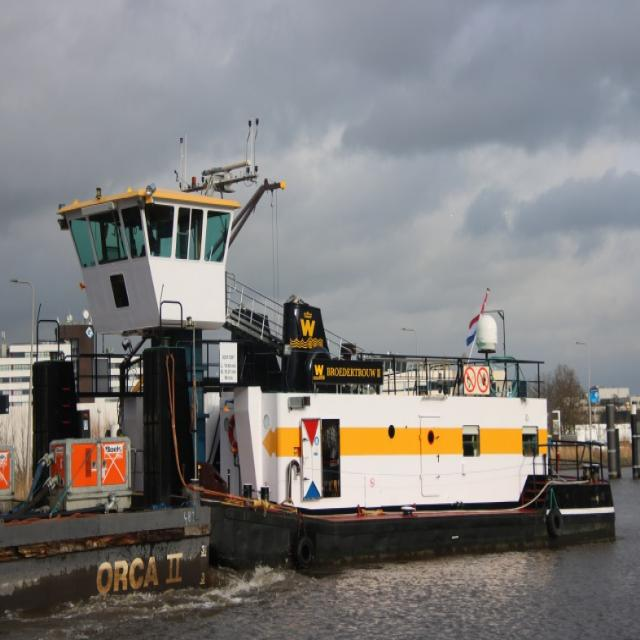tugboat: (29, 160, 621, 573)
